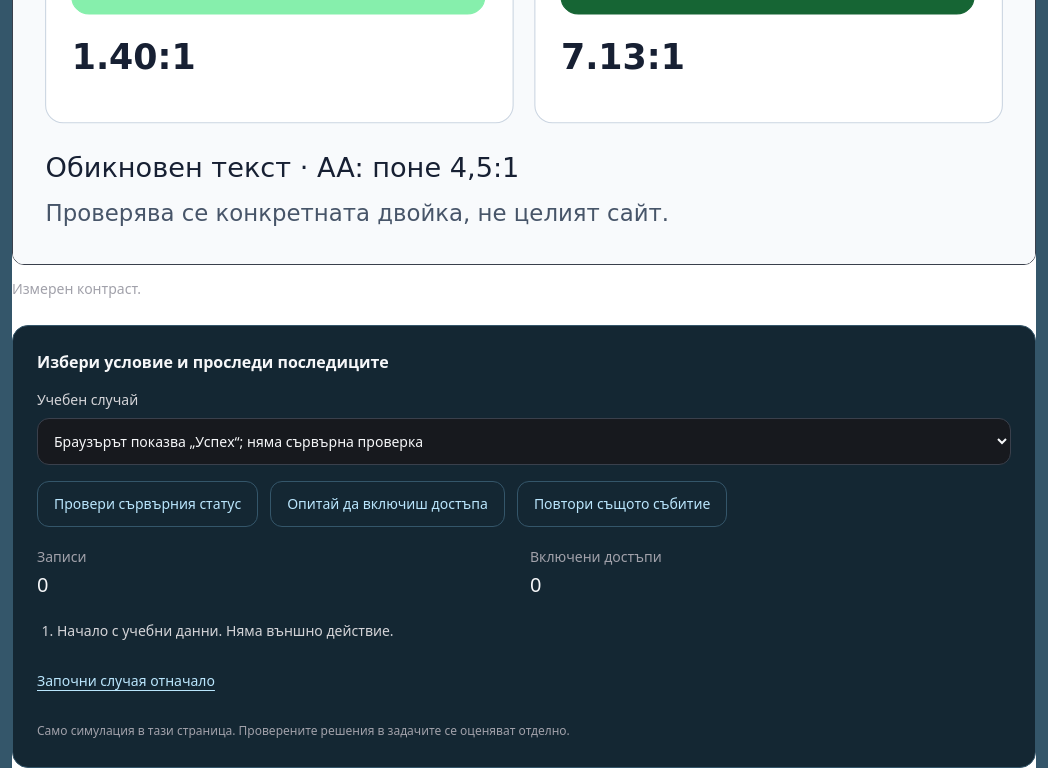
provided visual and simulation render with no open answer or file field
The width and height of the screenshot is (1048, 768).
(page scrolled)
Select "Платен продукт; проверката ще върне paid" in the dropdown at point(524, 442), box [37,418,1011,465]
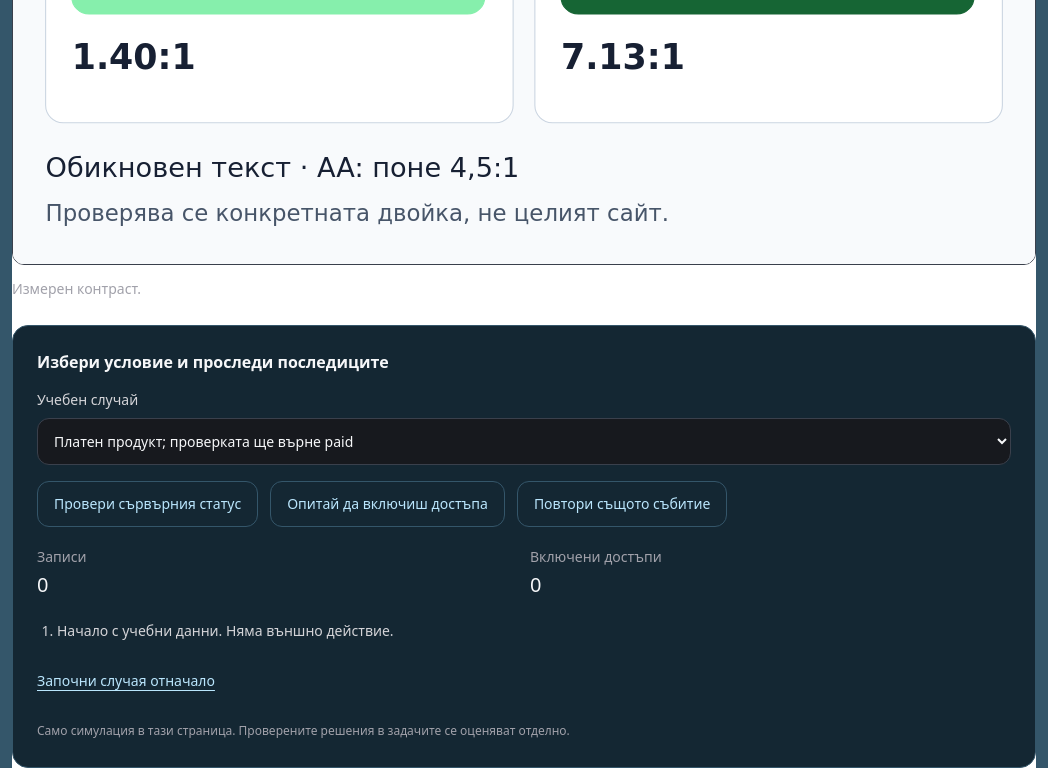
Click the button "Провери сървърния статус" at point(148, 504), box [37,481,258,527]
(page scrolled)
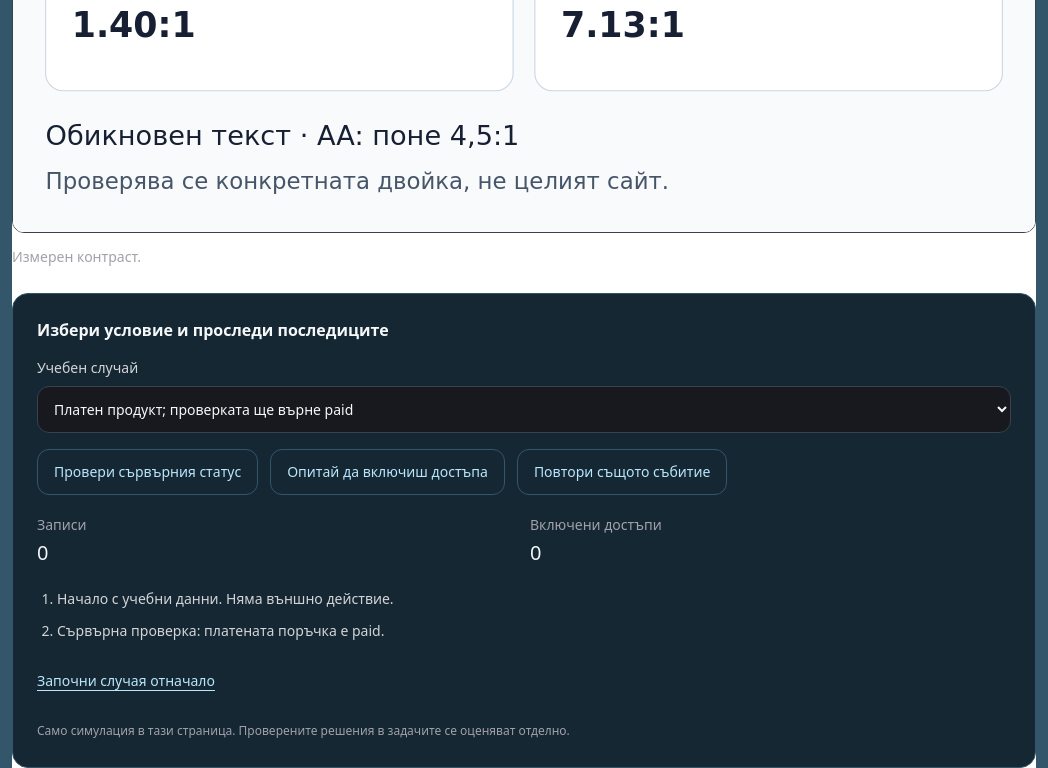
Click the button "Опитай да включиш достъпа" at point(388, 472), box [270,449,505,495]
(page scrolled)
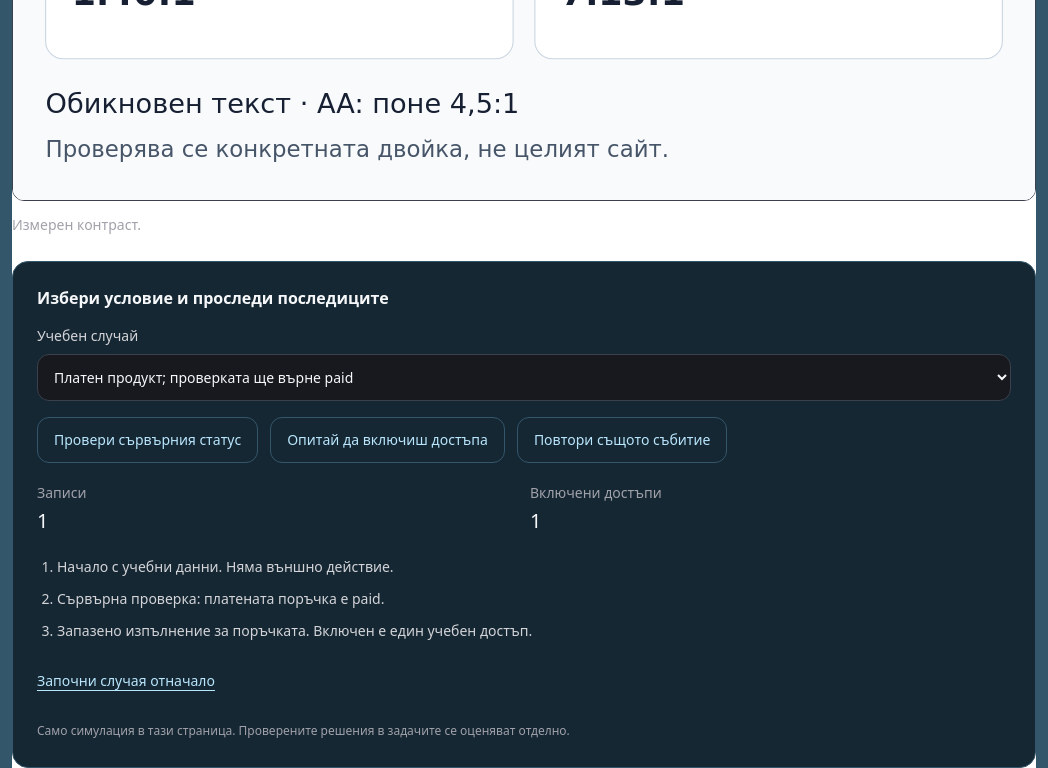
Expected: the element named "Журнал на учебните действия" shows "един учебен достъп", [57,621,532,640]
